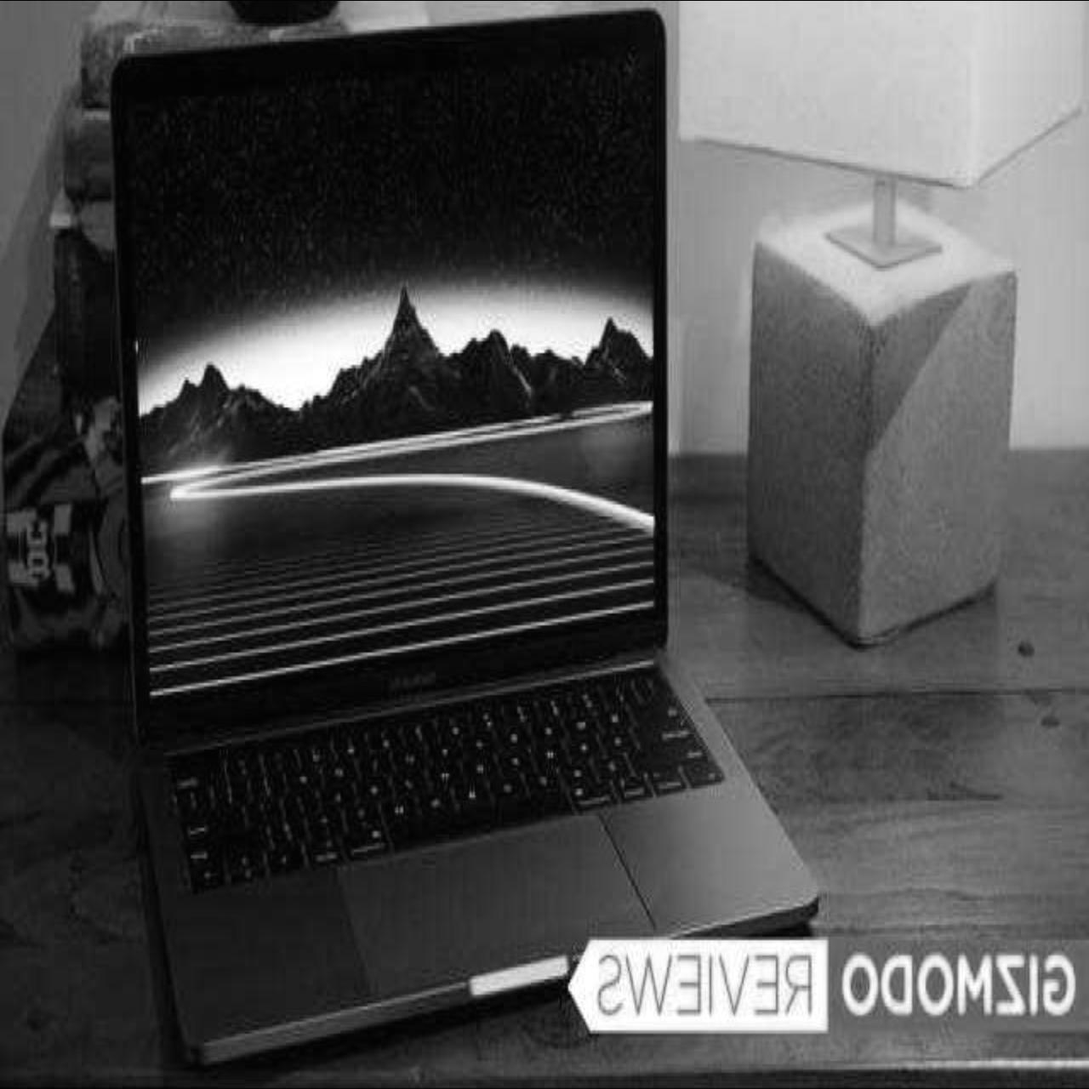laptop: (112, 7, 803, 960)
